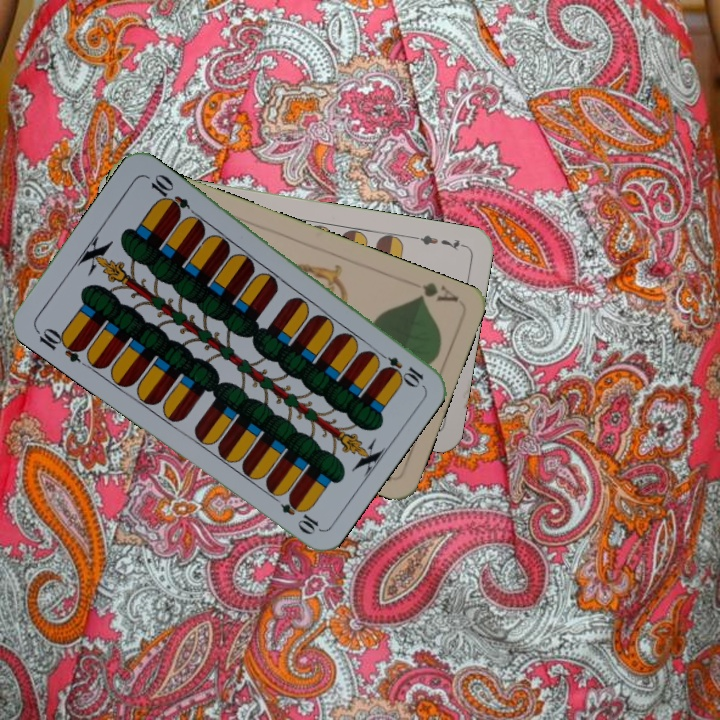E10: (31, 323, 87, 365), (372, 347, 426, 389)
E7: (409, 230, 468, 253)
GA: (411, 278, 462, 305)
